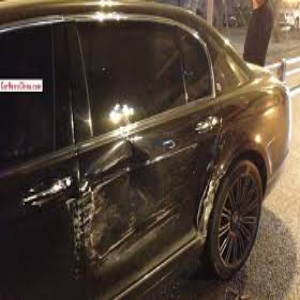door: (36, 151, 194, 273)
